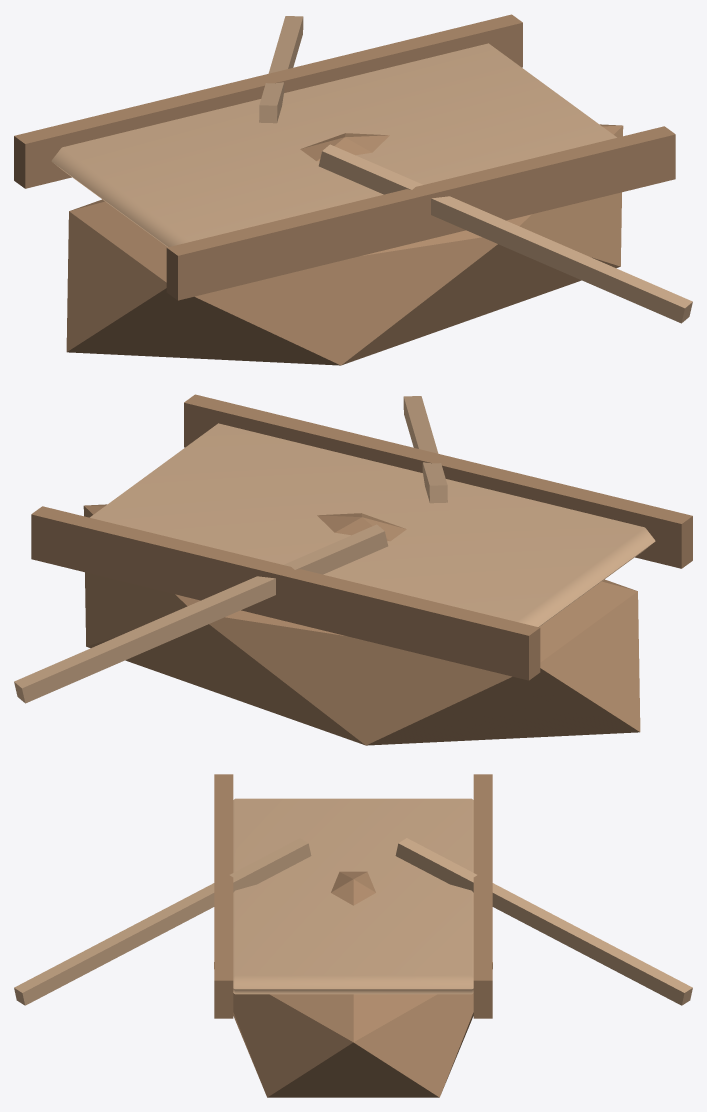
Rendered from rowboat.glb.
3 renders of one model, top to bottom at view 1: azimuth 30°, elevation 25°; view 2: azimuth 150°, elevation 25°; view 3: azimuth 270°, elevation 25°, orthographic. The views are drawn at different scales.
Parts seen in each view (by area): view 1: Boat deck, Faceted boat hull, Gunwale, Gunwale.001, Wood oar, Wood oar.001; view 2: Boat deck, Faceted boat hull, Gunwale.001, Gunwale, Wood oar.001, Wood oar; view 3: Boat deck, Faceted boat hull, Wood oar, Wood oar.001, Gunwale, Gunwale.001.
Boxes of the visible parts, left/top/right/bottom form: Boat deck: left=51, top=43, right=616, bottom=247; Faceted boat hull: left=66, top=124, right=623, bottom=365; Gunwale: left=166, top=126, right=675, bottom=300; Gunwale.001: left=14, top=14, right=522, bottom=188; Wood oar: left=318, top=144, right=692, bottom=323; Wood oar.001: left=259, top=16, right=303, bottom=123; Boat deck: left=90, top=423, right=655, bottom=627; Faceted boat hull: left=83, top=504, right=640, bottom=745; Gunwale.001: left=31, top=506, right=540, bottom=680; Gunwale: left=184, top=394, right=692, bottom=568; Wood oar.001: left=14, top=524, right=388, bottom=703; Wood oar: left=403, top=396, right=447, bottom=503; Boat deck: left=233, top=798, right=473, bottom=994; Faceted boat hull: left=214, top=871, right=492, bottom=1097; Wood oar: left=14, top=838, right=311, bottom=1005; Wood oar.001: left=395, top=838, right=692, bottom=1005; Gunwale: left=214, top=774, right=233, bottom=1018; Gunwale.001: left=473, top=774, right=492, bottom=1018.
Size of the model in its own units: 2.86 by 1.11 by 3.56.
